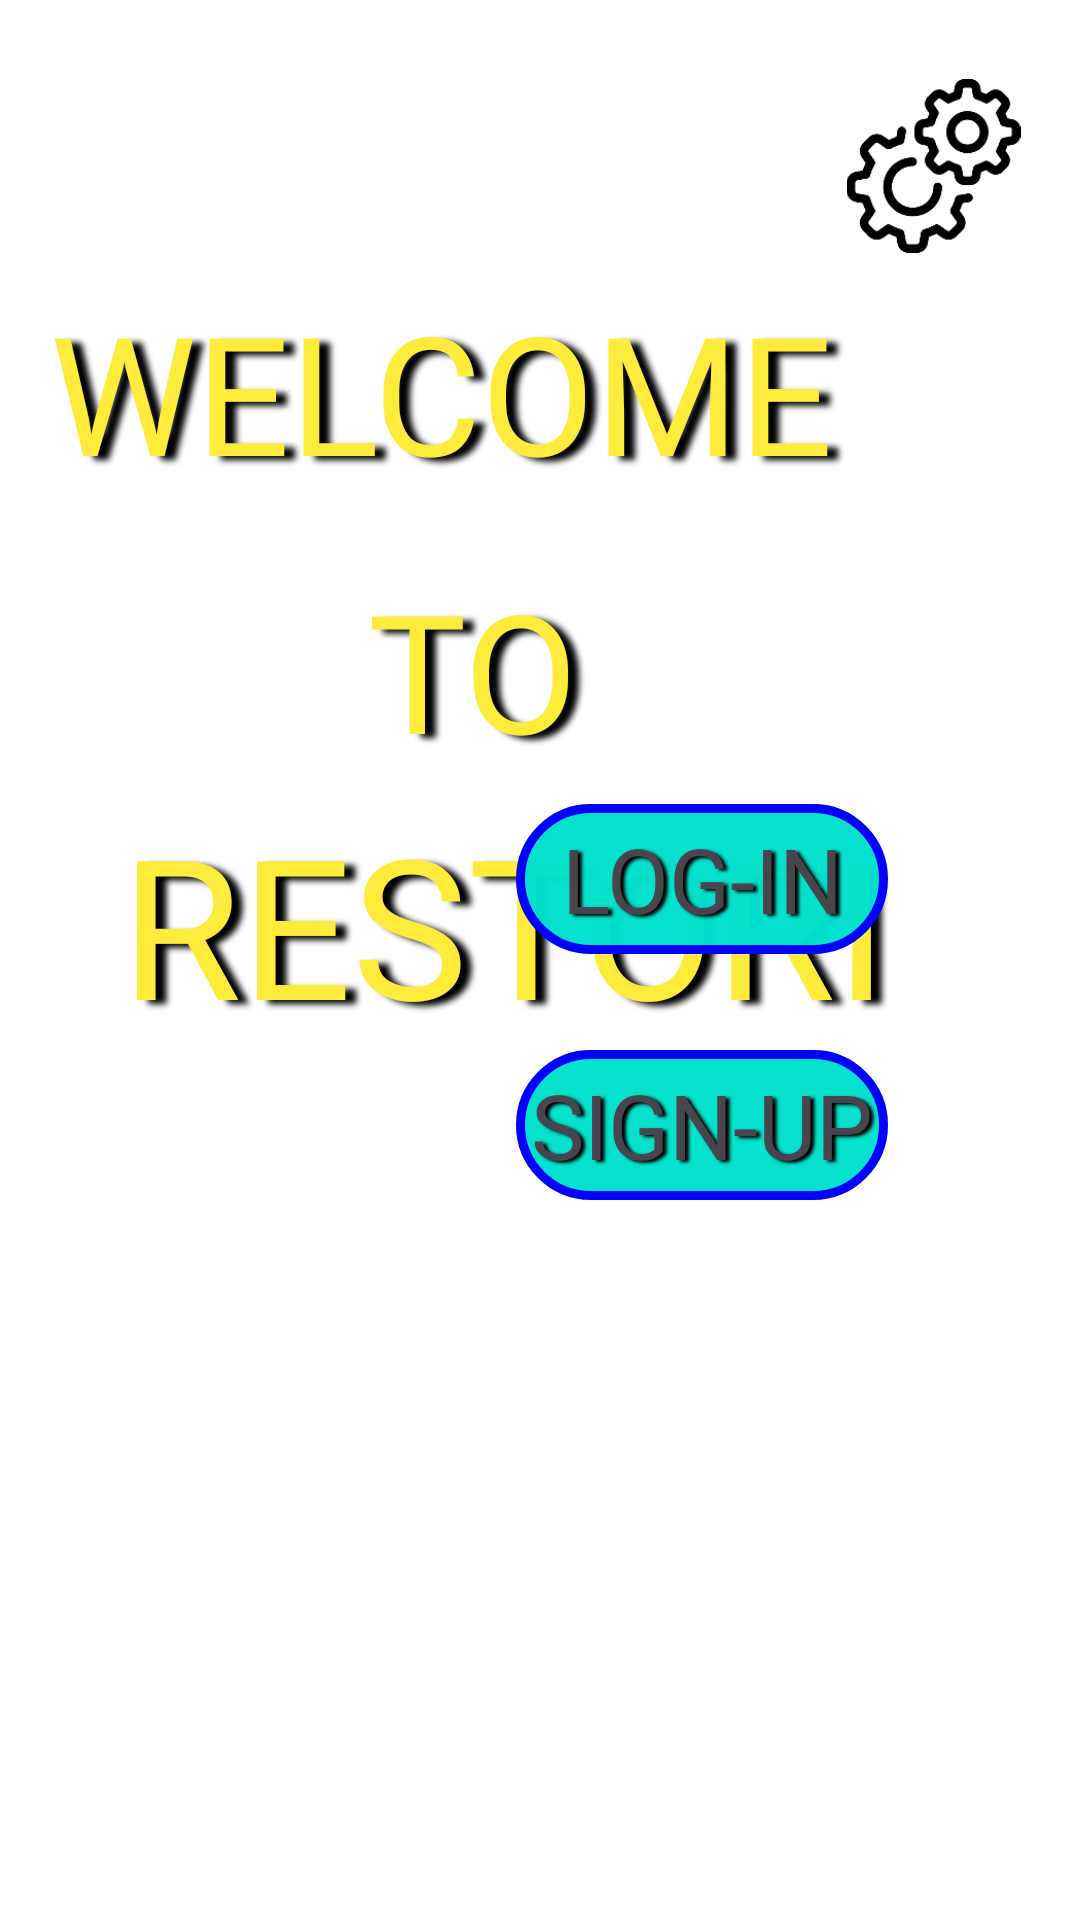

Screen size 1080×1920. Icon name, then its center in pixels as [x,y]:
setting: [934,166]
